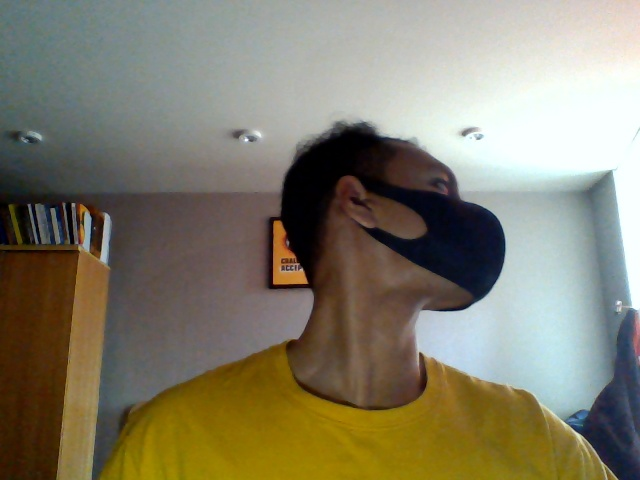mask: (371, 198, 505, 312)
